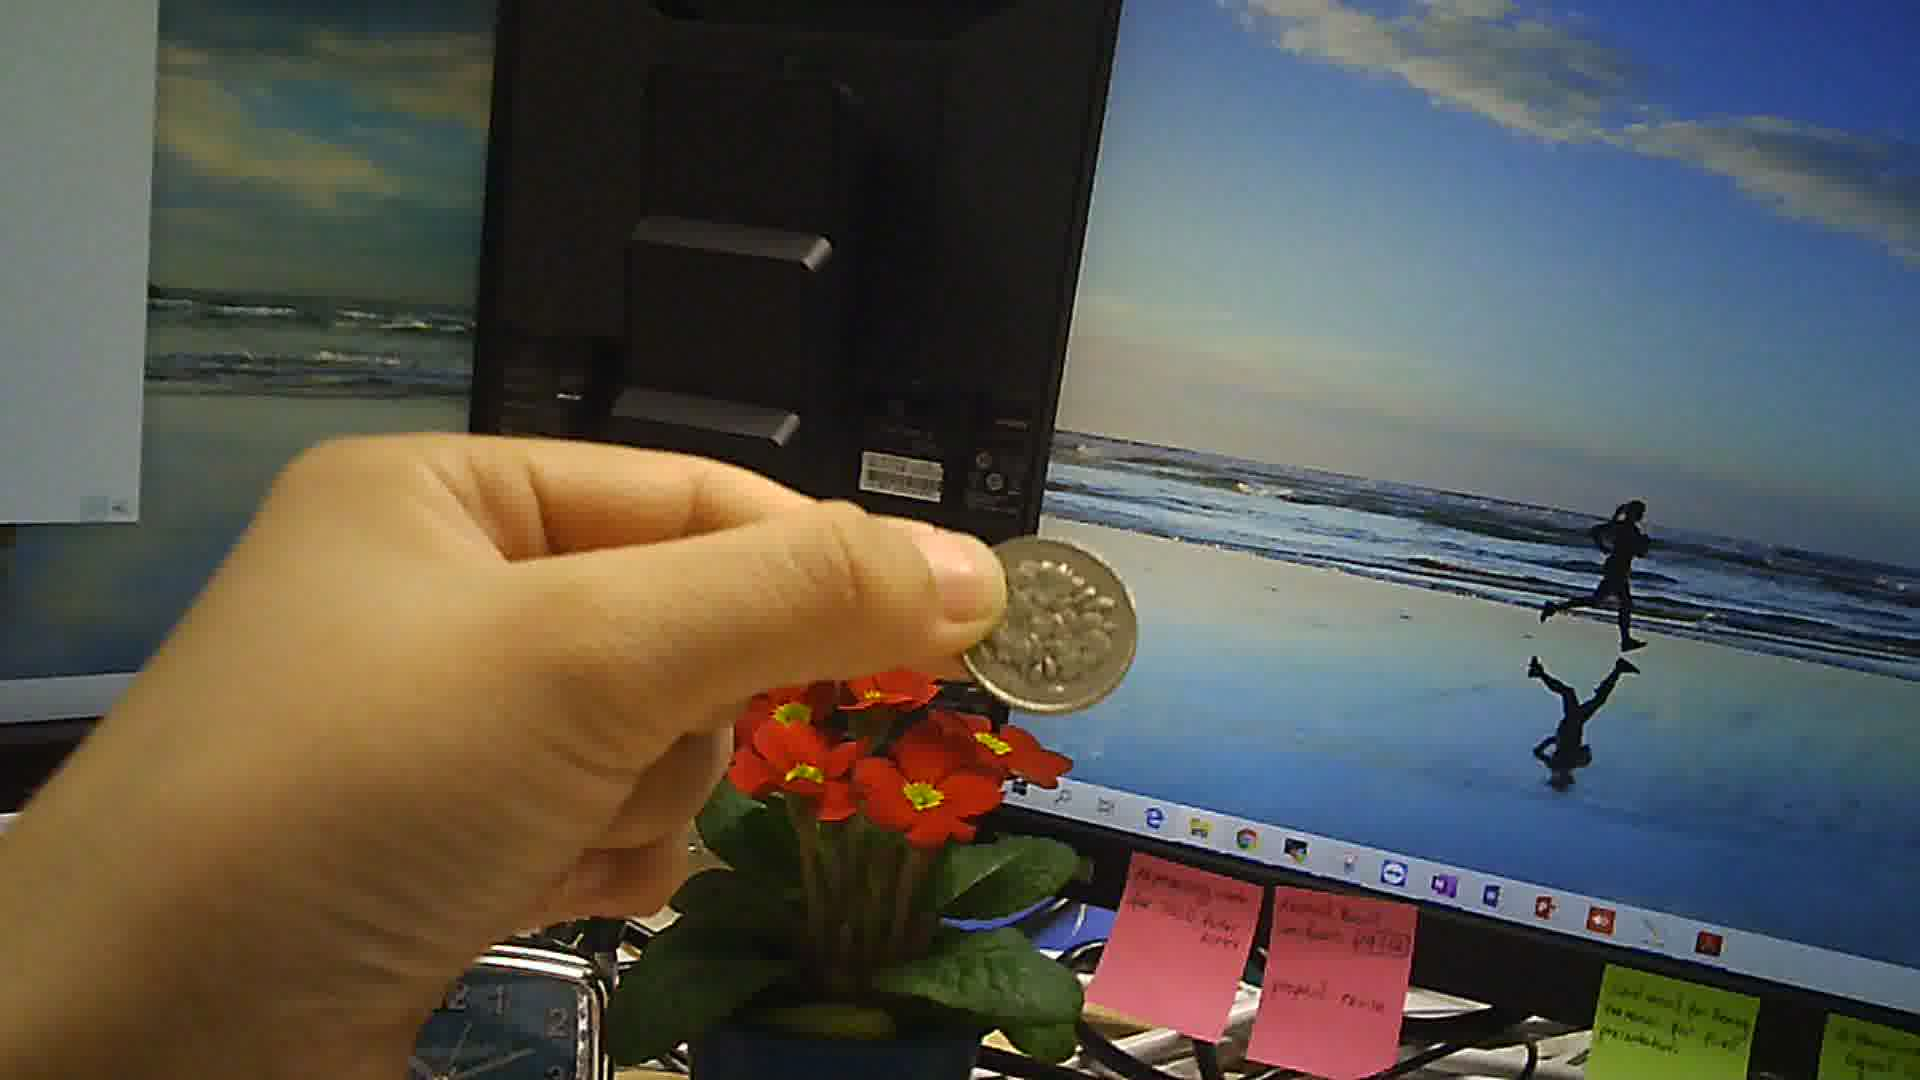100 Yen: (955, 529, 1131, 700)
